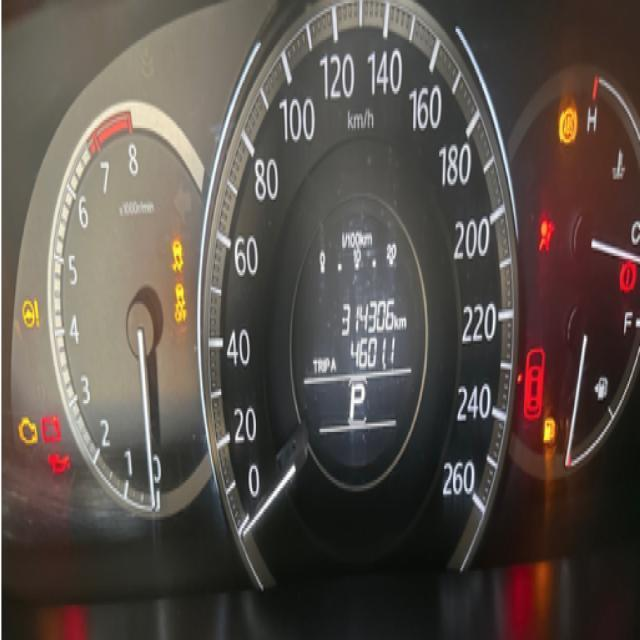Electronic Power Steering: (16, 288, 44, 336)
